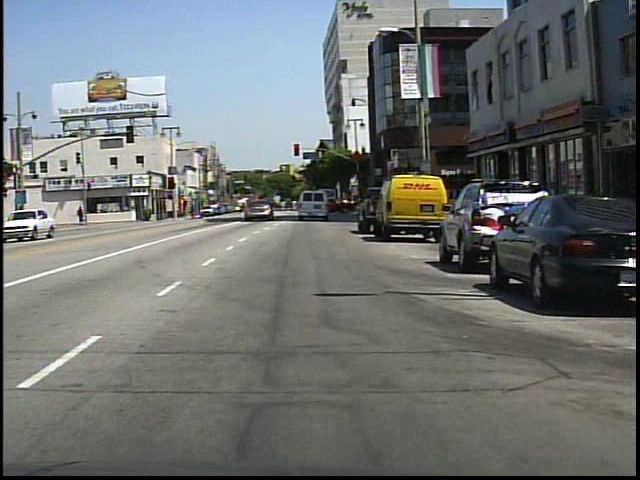person: (254, 192, 271, 222), (77, 205, 86, 226)
